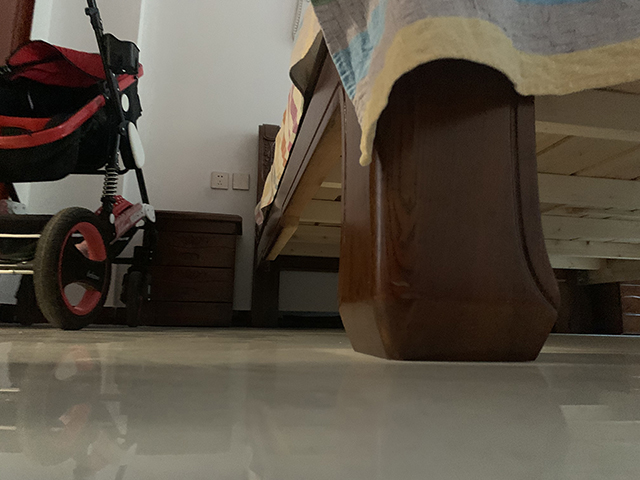bed: (251, 1, 640, 363)
cabinet: (142, 209, 243, 329)
